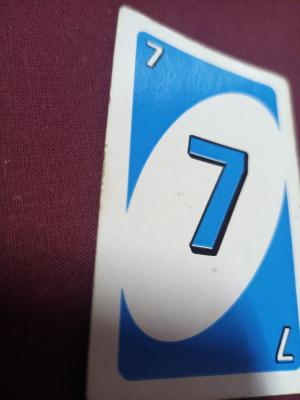blue: (131, 83, 279, 375)
num_7: (267, 321, 297, 369), (139, 36, 168, 77)
